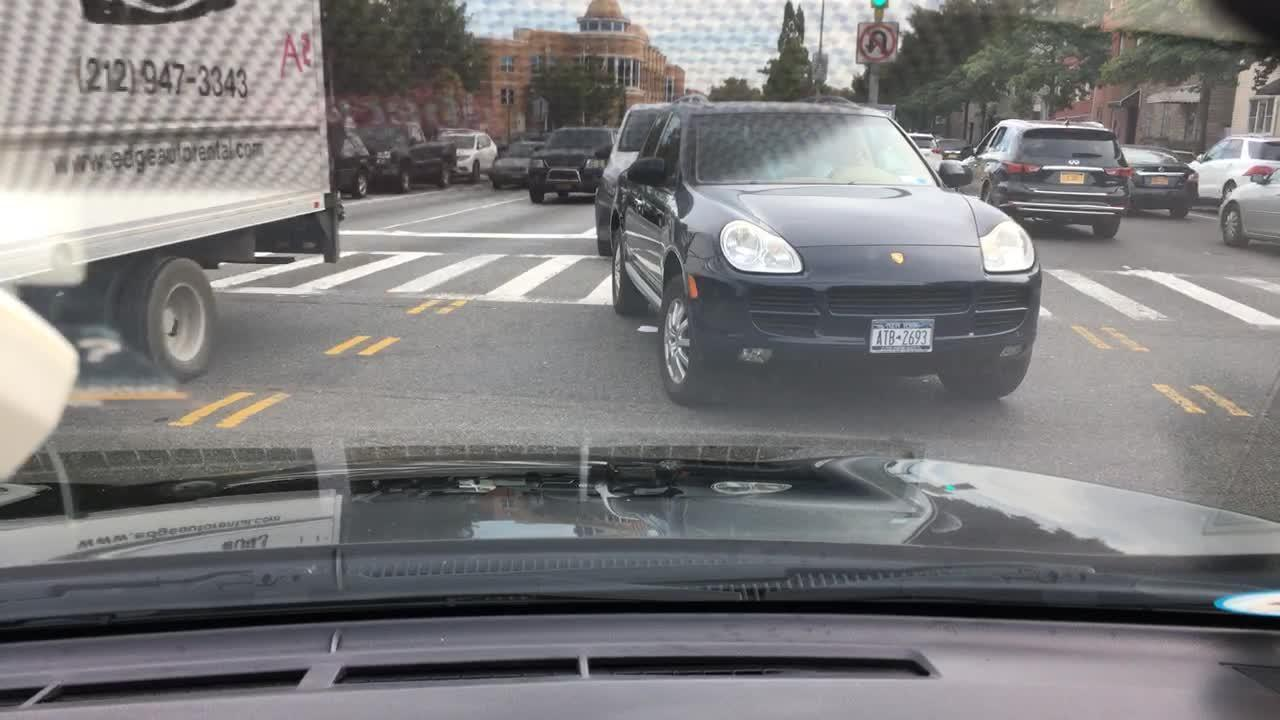Infiniti: (1056, 157, 1090, 173)
porsche: (888, 250, 907, 267)
